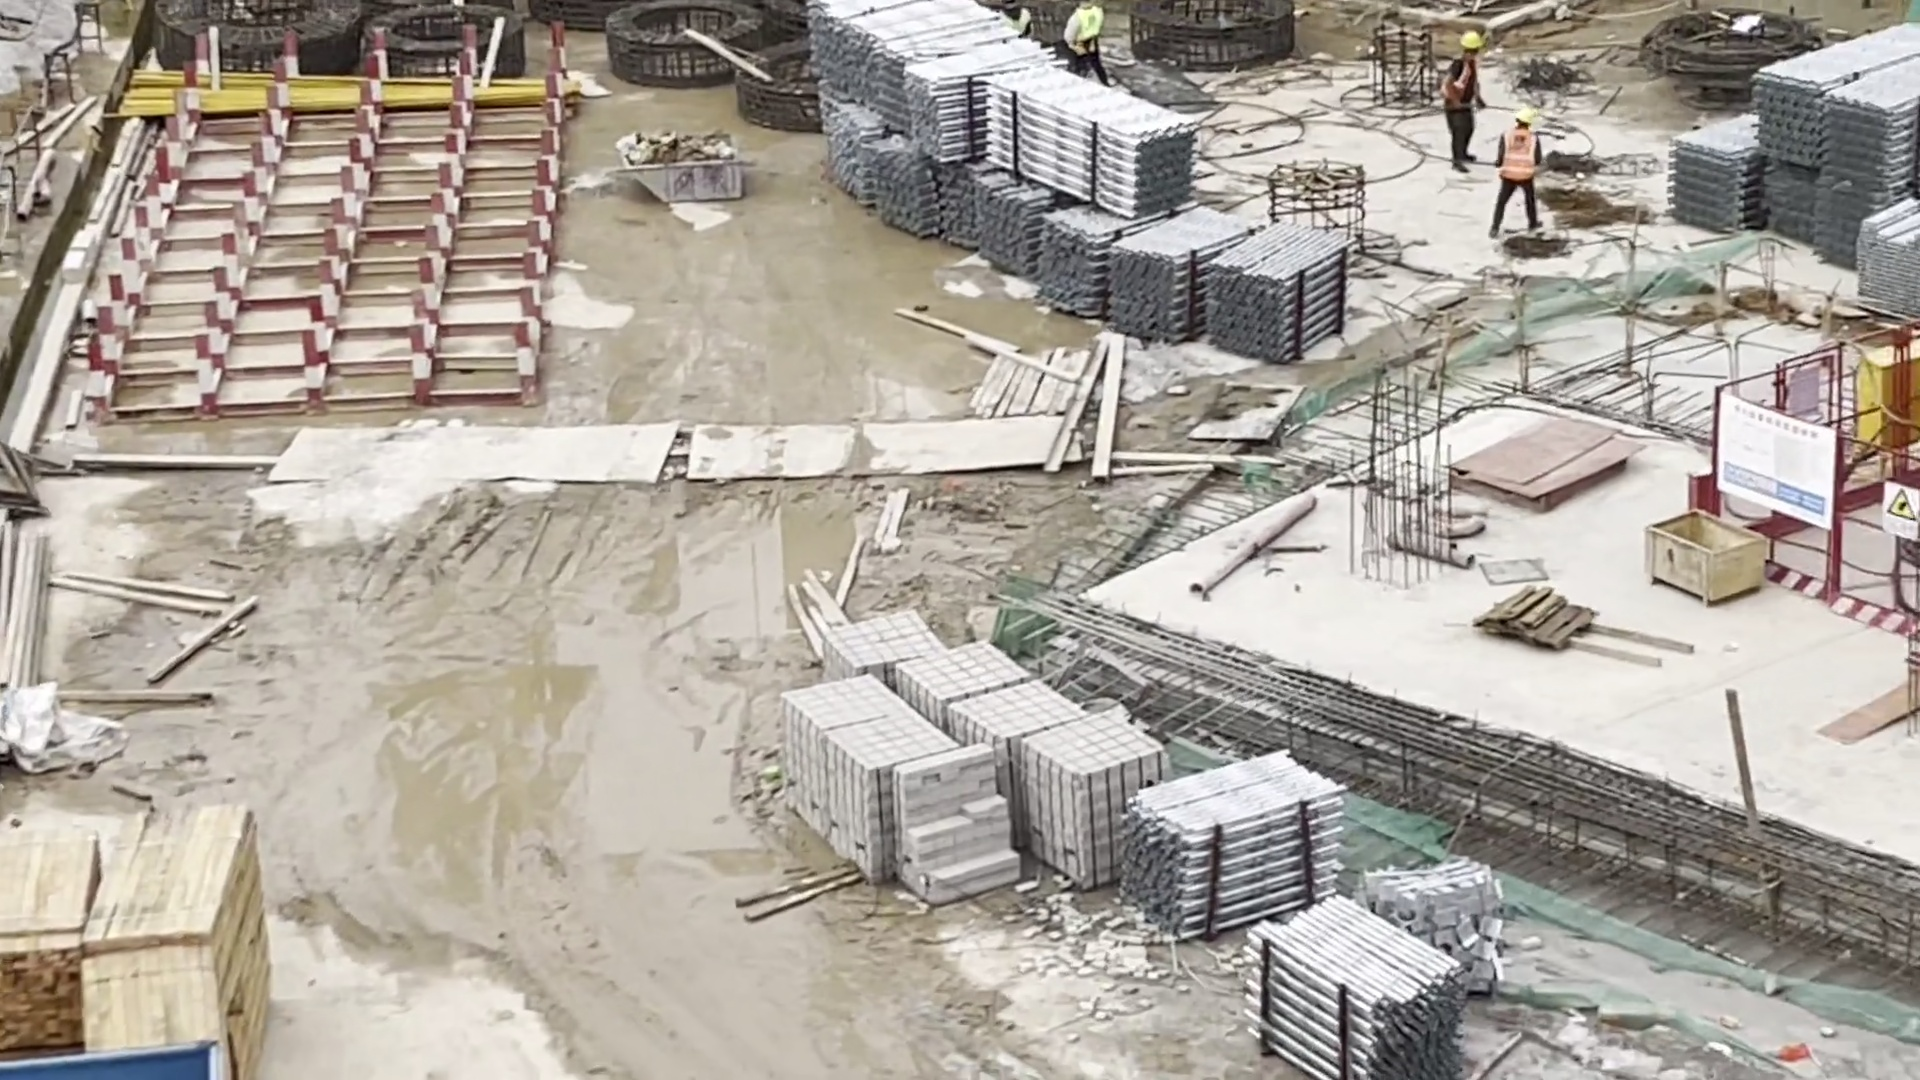brick: (780, 603, 1158, 913)
ebox: (1851, 349, 1920, 453)
helmet: (1459, 36, 1481, 48), (1514, 109, 1533, 122)
hopper: (1648, 513, 1776, 616), (620, 130, 743, 203)
person: (1443, 35, 1495, 179), (1496, 108, 1544, 248), (1063, 2, 1117, 90), (996, 1, 1040, 38)
scaffold: (803, 7, 1358, 371), (1124, 742, 1480, 1080), (1662, 26, 1920, 313)
slogan: (1718, 397, 1832, 525), (1885, 484, 1920, 535)
vest: (1445, 58, 1477, 108), (1503, 129, 1535, 178), (1072, 8, 1102, 53), (998, 10, 1033, 36)
wood: (2, 805, 265, 1080)
